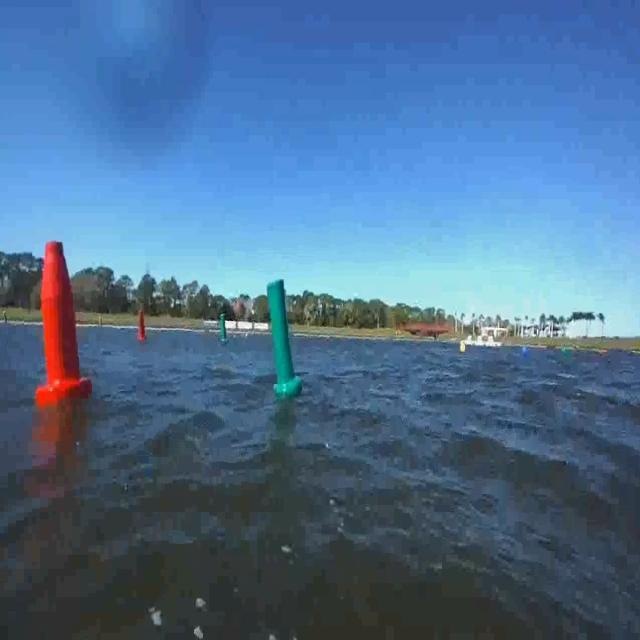blue-buoy: (522, 346, 531, 359)
green-column-buoy: (266, 278, 303, 396), (219, 313, 228, 344)
red-column-buoy: (38, 242, 93, 408), (138, 310, 148, 342)
yellow-buoy: (459, 342, 467, 356)
